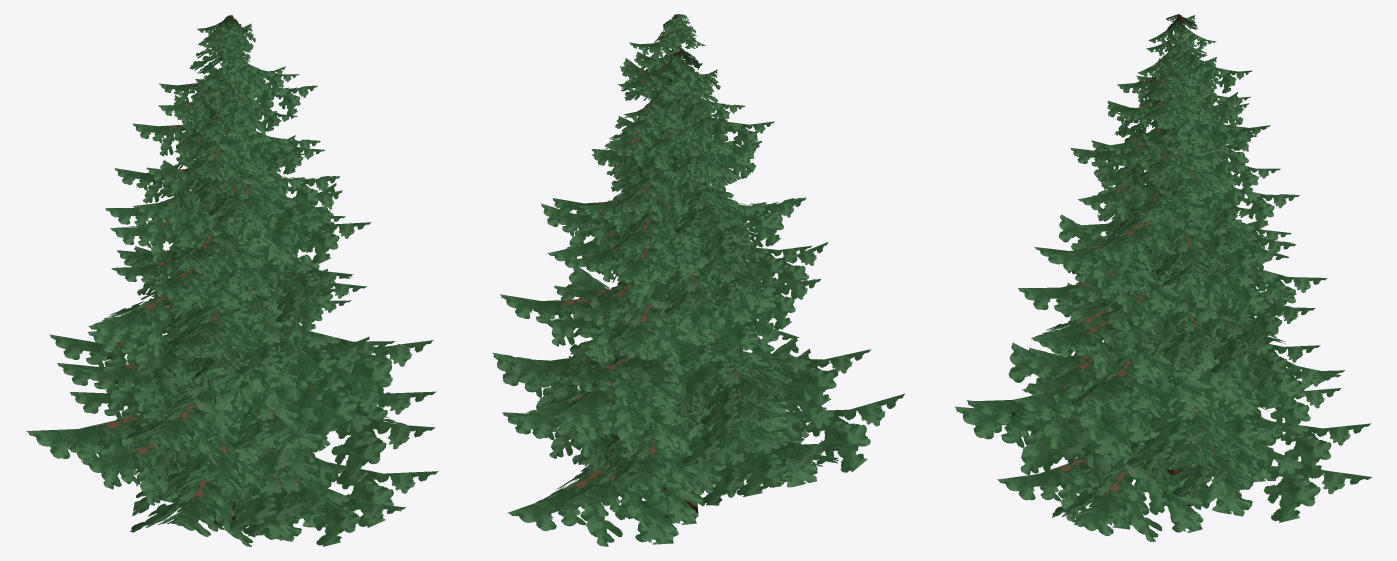
File: Pine2.fbx
3 views of the same model, side by side, from view 1: azimuth 30°, elevation 25°; view 2: azimuth 150°, elevation 25°; view 3: azimuth 270°, elevation 25° (orthographic). The views are drawn at different scales.
Parts seen in each view (by area): view 1: Pine tree 2; view 2: Pine tree 2; view 3: Pine tree 2.
Boxes of the visible parts, x1,y1,x2,y2 form: Pine tree 2: (26, 15, 438, 546); Pine tree 2: (493, 14, 904, 546); Pine tree 2: (954, 14, 1372, 541).
Bounding box in the file's own units: 1049 × 1345 × 1097.
2 materials, 2 textured.
